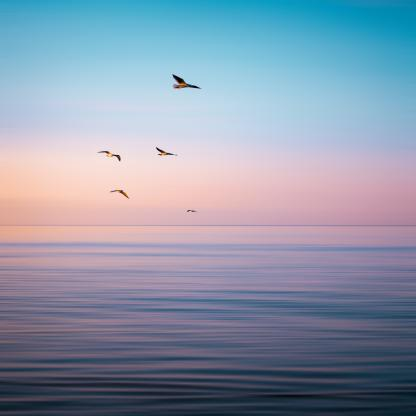bird: (172, 73, 203, 91), (97, 150, 122, 162), (156, 147, 180, 157), (110, 190, 130, 199), (186, 210, 198, 214)
